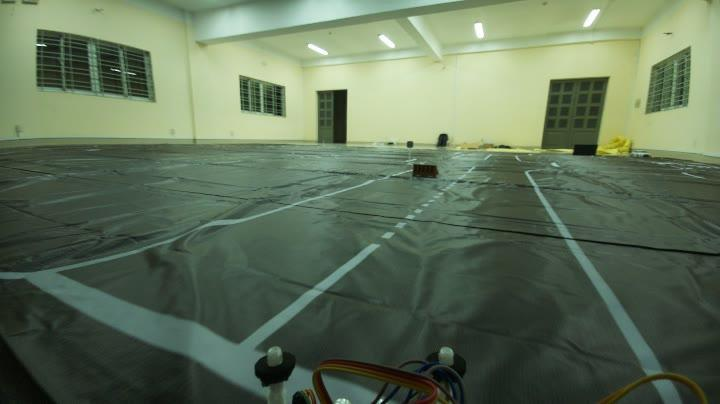roadblock: (409, 163, 440, 181)
